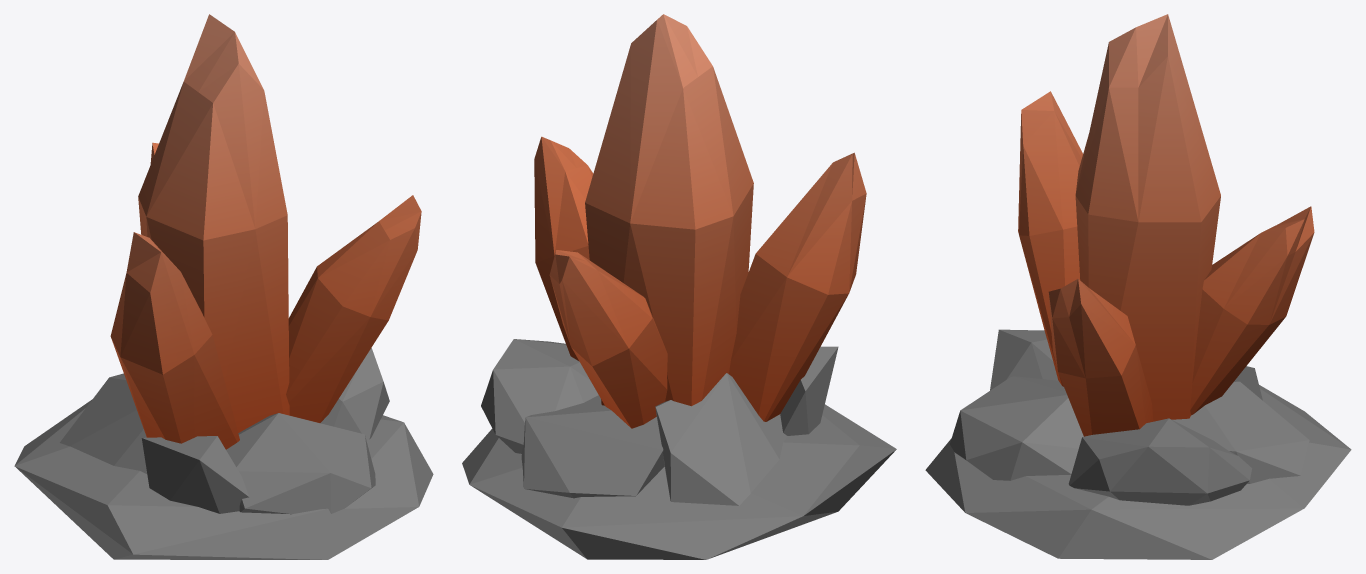
The model's file is Crystal_08.fbx.
The picture shows the model from 3 angles, left to right: view 1: azimuth 30°, elevation 25°; view 2: azimuth 150°, elevation 25°; view 3: azimuth 270°, elevation 25°; orthographic projection.
Visible parts, largest first — view 1: Crystal_08; view 2: Crystal_08; view 3: Crystal_08.
Boxes of the visible parts, x1,y1,x2,y2 form: Crystal_08: (14,14,433,559); Crystal_08: (462,14,896,559); Crystal_08: (925,14,1351,559).
Size of the model in its own units: 1.01 by 1.39 by 1.1.
